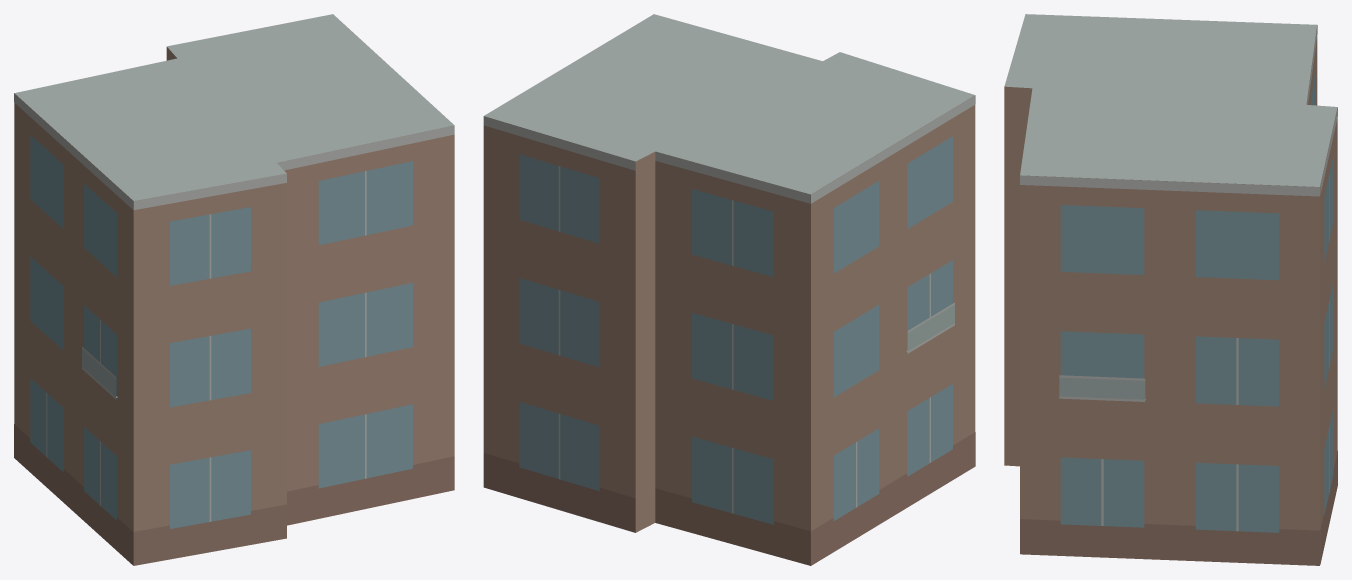
Rendered from survey-upis-32489851.glb.
3 renders of one model, left to right at view 1: azimuth 30°, elevation 25°; view 2: azimuth 150°, elevation 25°; view 3: azimuth 270°, elevation 25°, orthographic. The views are drawn at different scales.
Visible parts, largest first — view 1: survey-upis-32489851.tmp; view 2: survey-upis-32489851.tmp; view 3: survey-upis-32489851.tmp.
Boxes of the visible parts, bbox=[...] form: survey-upis-32489851.tmp: bbox=[14, 14, 454, 565]; survey-upis-32489851.tmp: bbox=[483, 14, 975, 565]; survey-upis-32489851.tmp: bbox=[1004, 14, 1337, 565].
Bounding box in the file's own units: 9.51 × 9.7 × 7.75.
